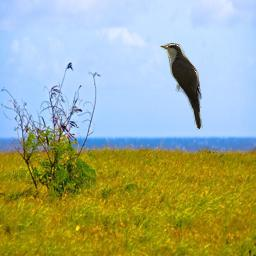Cuckoo: (160, 43, 203, 131)
